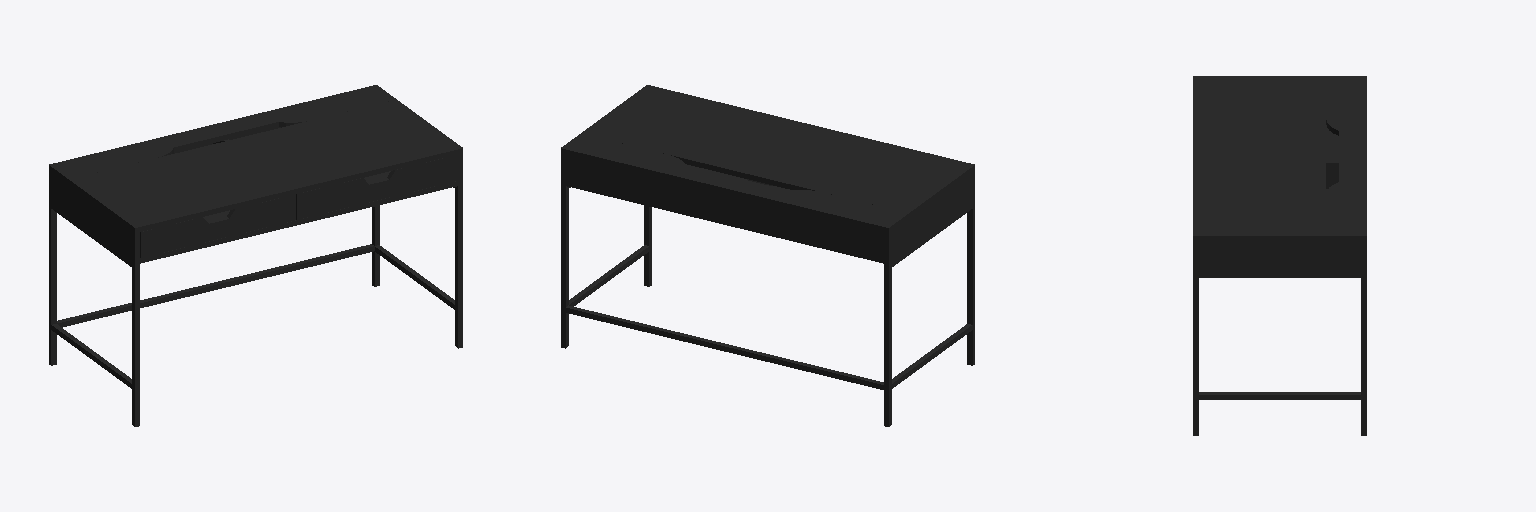
File: desk.obj
3 views of the same model, side by side, from view 1: azimuth 30°, elevation 25°; view 2: azimuth 150°, elevation 25°; view 3: azimuth 270°, elevation 25° (orthographic).
Parts seen in each view (by area): view 1: Plumbing_Fixtures; view 2: Plumbing_Fixtures; view 3: Plumbing_Fixtures.
Boxes of the visible parts, x1,y1,x2,y2 form: Plumbing_Fixtures: [49, 85, 462, 426]; Plumbing_Fixtures: [561, 85, 974, 426]; Plumbing_Fixtures: [1193, 76, 1366, 435].
Size of the model in its own units: 1310 by 760 by 600.